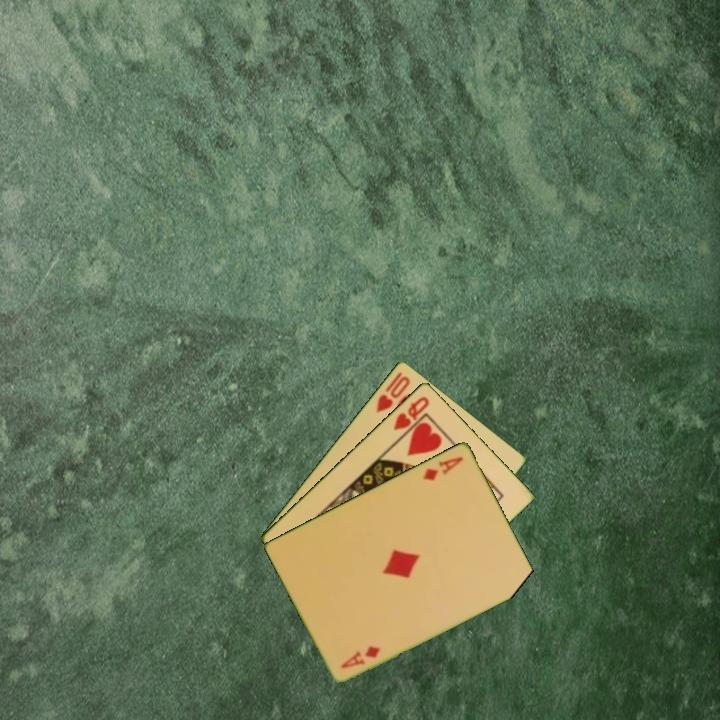10h: (372, 368, 413, 416)
Ad: (419, 452, 466, 484), (337, 641, 383, 671)
Qh: (390, 392, 432, 433)
